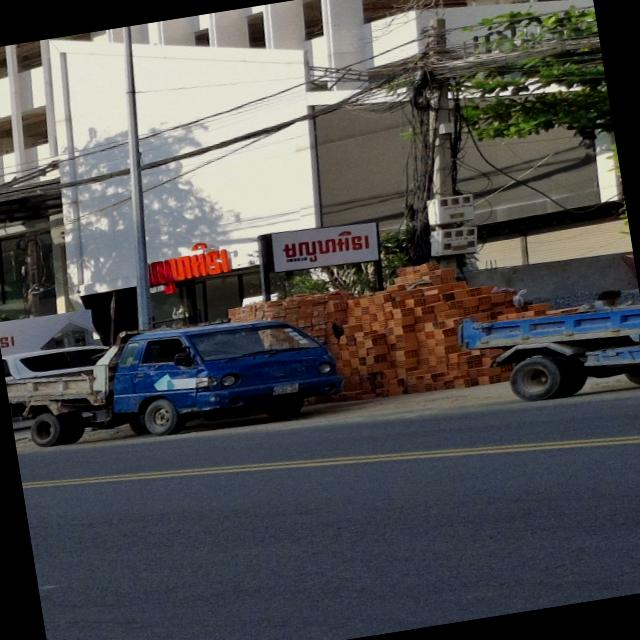Yolov11_80vkh: (259, 219, 397, 279)
